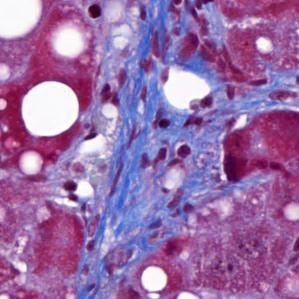inflammation: (59, 176, 84, 205), (84, 0, 106, 22), (172, 140, 195, 161)
